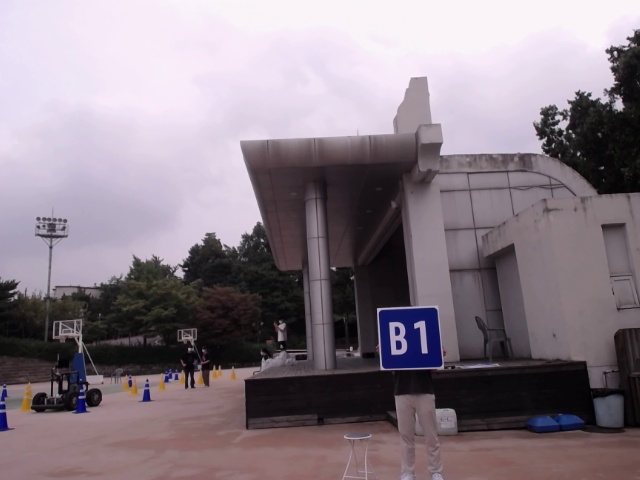delivery_b1: (377, 306, 444, 370)
